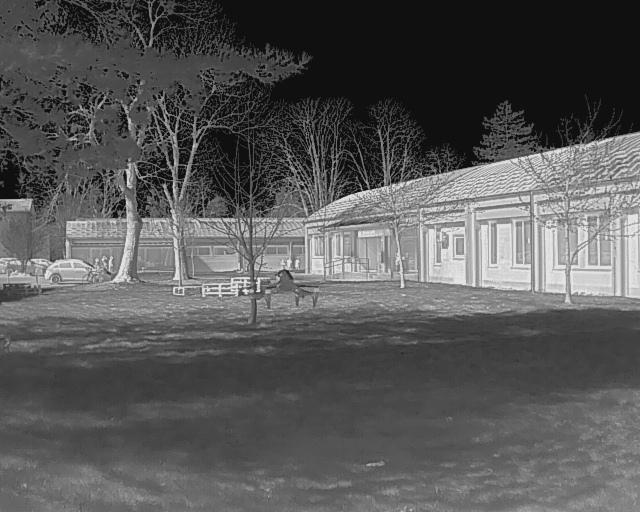drone: (236, 259, 334, 320)
